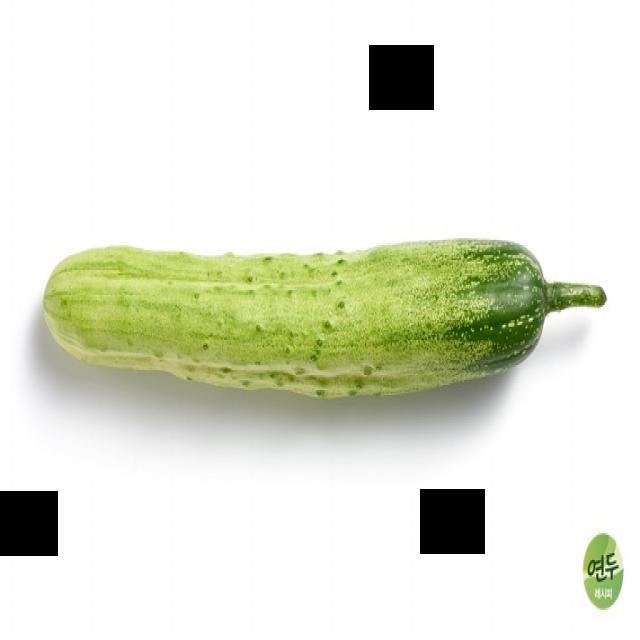cucumber: (38, 212, 622, 423)
